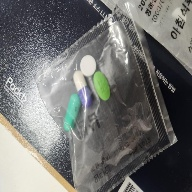러키펜정: (80, 55, 97, 77)
씨엠지세파클러캡슐: (73, 71, 92, 108)
에르도캡슐: (63, 93, 81, 132)
휴티렌정: (92, 71, 111, 102)
